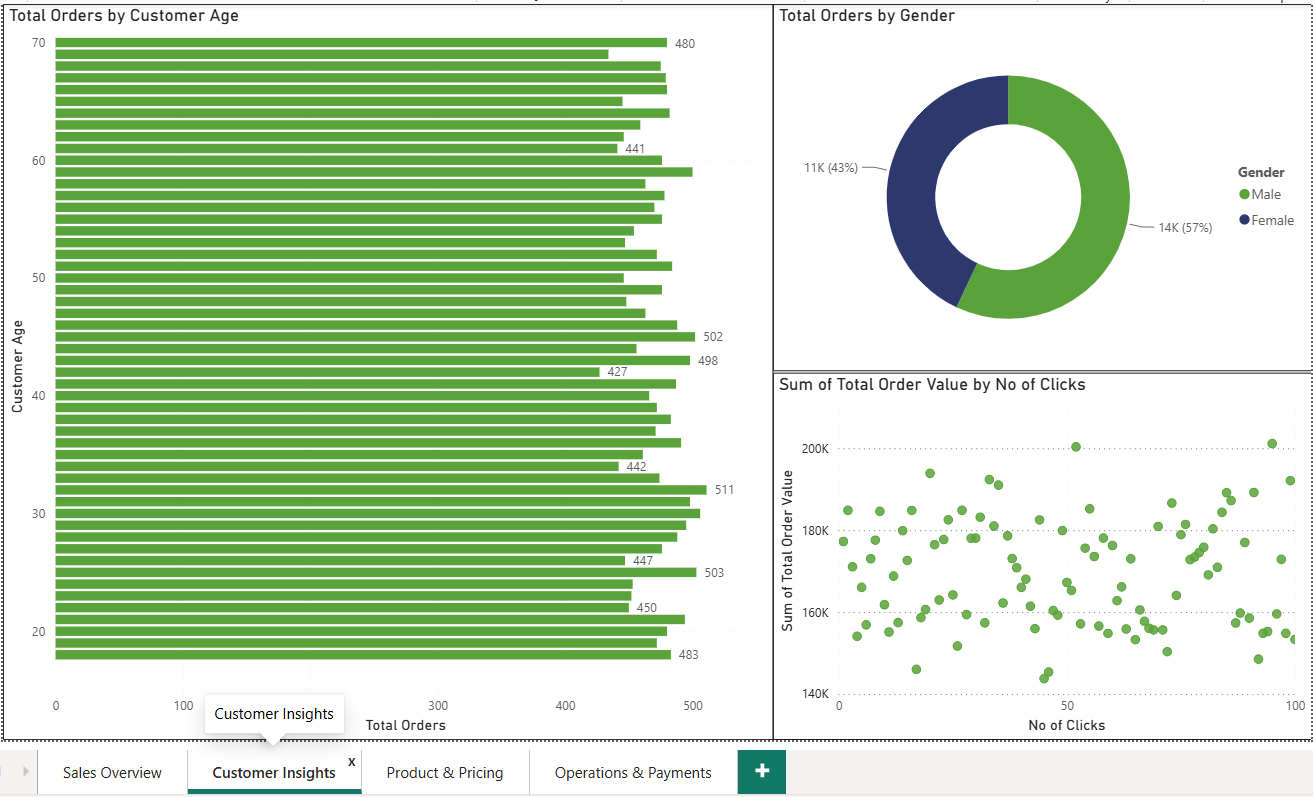

The page's visual inventory and layout, read from the dashboard file:
{"tool":"powerbi","page":{"name":"Customer Insights","canvas":[1280,720],"ordinal":1},"visuals":[{"type":"barChart","fields":{"Y":["Dmart+Dataset_Tableau.Total Orders"],"Category":["Dmart+Dataset_Tableau.Customer Age"]},"box":[0,0,753.3,720.2],"z":0},{"type":"donutChart","fields":{"Category":["Dmart+Dataset_Tableau.Gender"],"Y":["Dmart+Dataset_Tableau.Total Orders"]},"box":[753.3,0,527,359.5],"z":1000},{"type":"scatterChart","fields":{"X":["Dmart+Dataset_Tableau.No of Clicks"],"Y":["Sum(Dmart+Dataset_Tableau.Total Order Value)"]},"box":[753.3,360.7,527,359.5],"z":2000}]}

Visuals, with their boxes on the page's 1280x720 design canvas (x1, y1, x2, y2). These are canvas units, not pixel positions in the 1313x797 screenshot, which may show the page scaled, cropped or inside an application window:
barChart - Dmart+Dataset_Tableau.Total Orders x Dmart+Dataset_Tableau.Customer Age: left=0, top=0, right=753, bottom=720
donutChart - Dmart+Dataset_Tableau.Gender x Dmart+Dataset_Tableau.Total Orders: left=753, top=0, right=1280, bottom=360
scatterChart - Dmart+Dataset_Tableau.No of Clicks x Sum(Dmart+Dataset_Tableau.Total Order Value): left=753, top=361, right=1280, bottom=720
